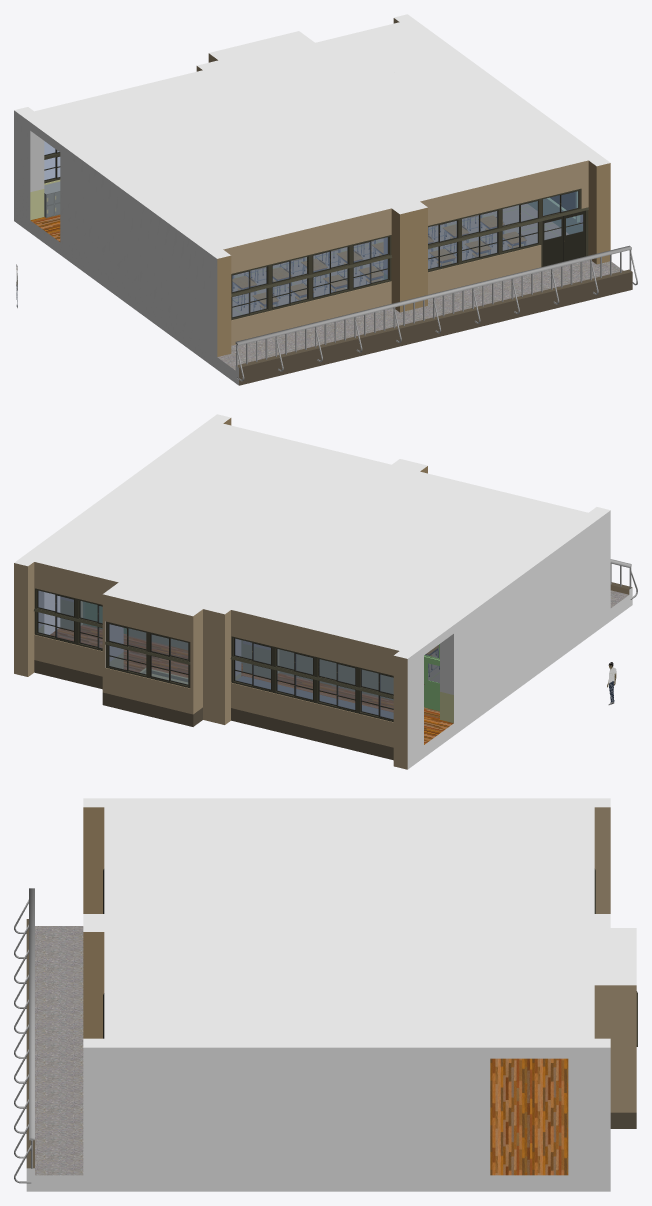
3 renders of one model, top to bottom at view 1: azimuth 30°, elevation 25°; view 2: azimuth 150°, elevation 25°; view 3: azimuth 270°, elevation 25°, orthographic. The views are drawn at different scales.
Visible parts, largest first — view 1: group_31 (×14), group_48, group_47, group_44, ベランダ外ドア, ベランダ内ドア; view 2: group_31 (×11), group_48, group_47, group_88, 廊下ドア外; view 3: group_31 (×7), group_48, group_47, group_44.
Boxes of the visible parts, x1=… form: group_31 (×14): x1=14, y1=14, x2=632, y2=385; group_48: x1=80, y1=59, x2=590, y2=247; group_47: x1=30, y1=23, x2=453, y2=151; group_44: x1=235, y1=245, x2=631, y2=345; ベランダ外ドア: x1=563, y1=210, x2=585, y2=261; ベランダ内ドア: x1=542, y1=216, x2=563, y2=266; group_31 (×11): x1=14, y1=414, x2=632, y2=769; group_48: x1=81, y1=425, x2=590, y2=613; group_47: x1=31, y1=526, x2=453, y2=654; group_88: x1=237, y1=676, x2=393, y2=718; 廊下ドア外: x1=424, y1=659, x2=439, y2=711; group_31 (×7): x1=26, y1=798, x2=636, y2=1191; group_48: x1=109, y1=800, x2=464, y2=1045; group_47: x1=469, y1=798, x2=631, y2=1058; group_44: x1=29, y1=888, x2=34, y2=1140.
Size of the model in its own units: 847 by 710 by 181.
